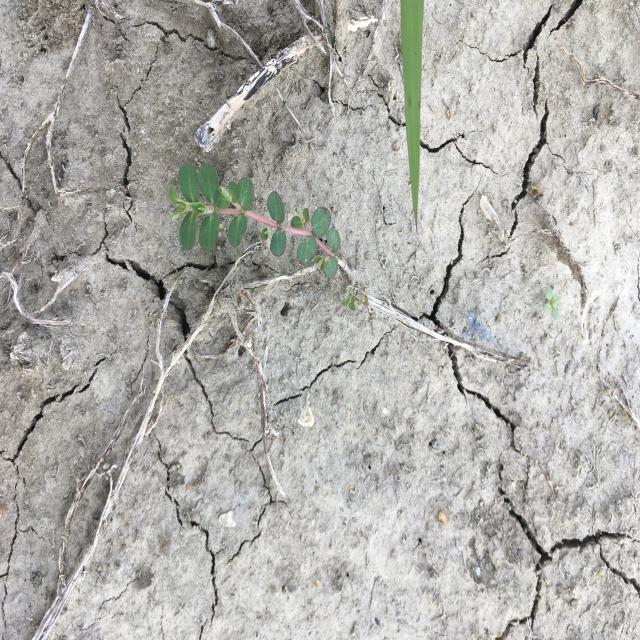SpottedSpurge: (167, 160, 369, 312)
